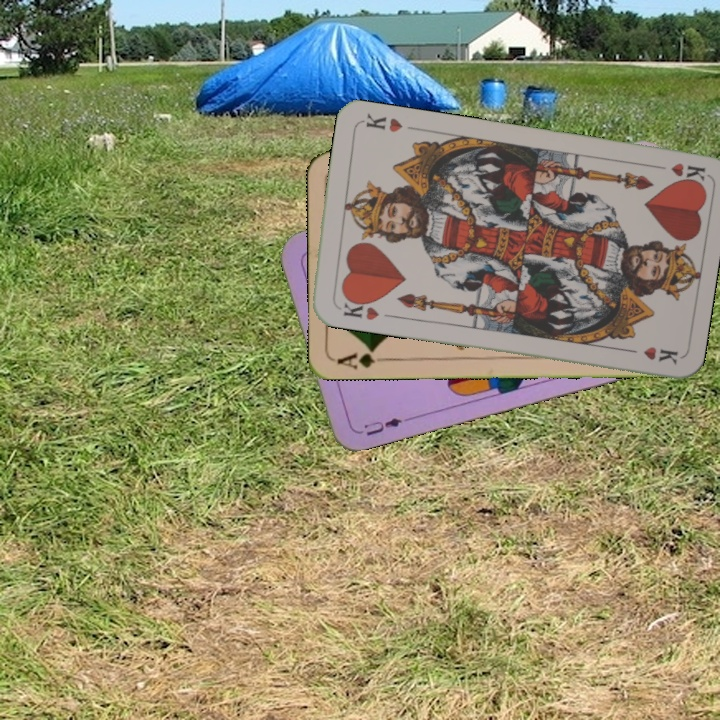EU: (360, 413, 404, 439)
GA: (333, 344, 392, 371)
HK: (647, 158, 707, 187), (332, 293, 381, 323)
